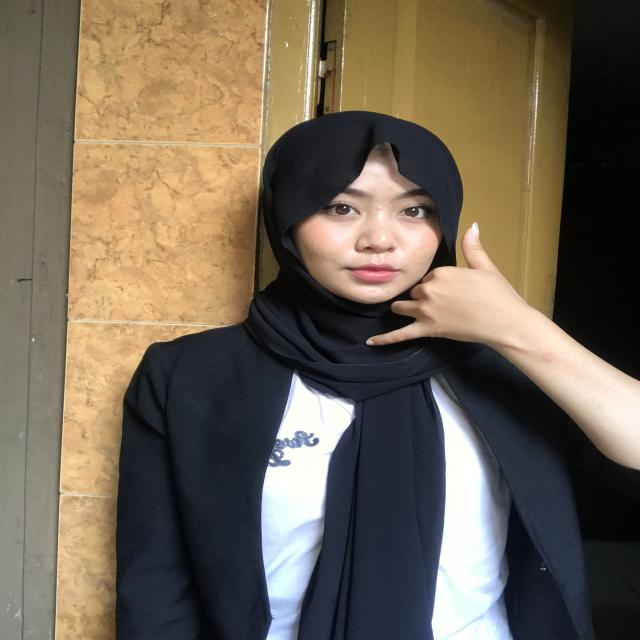telpon: (364, 218, 505, 362)
